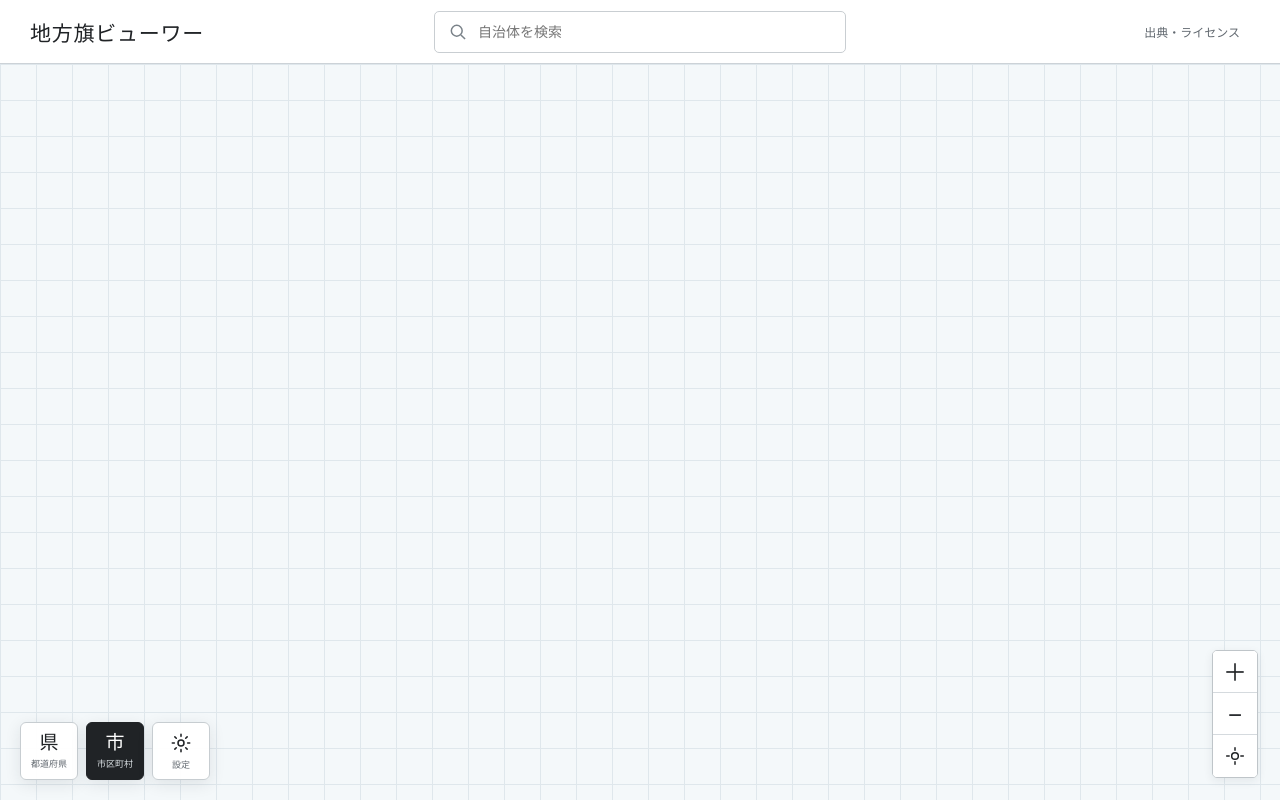
Scenario: App › searches a municipality and opens its details
expect the heading "地方旗ビューワー" is shown: met, box x1=30 y1=18 x2=204 y2=46
In the field labelled "自治体を検索": (640, 32) x1=434 y1=10 x2=846 y2=52, type "13101"
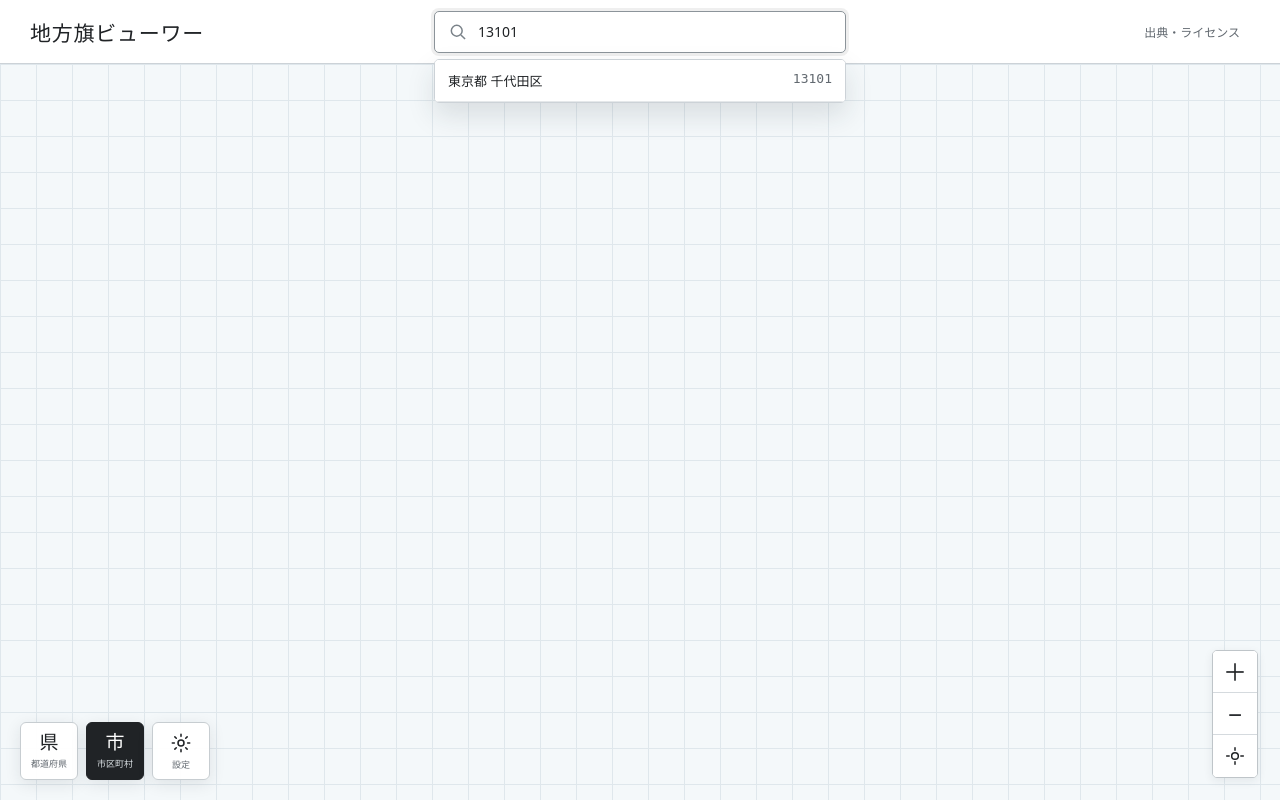
Click the option "東京都 千代田区 13101": click(468, 80) x1=435 y1=60 x2=845 y2=102
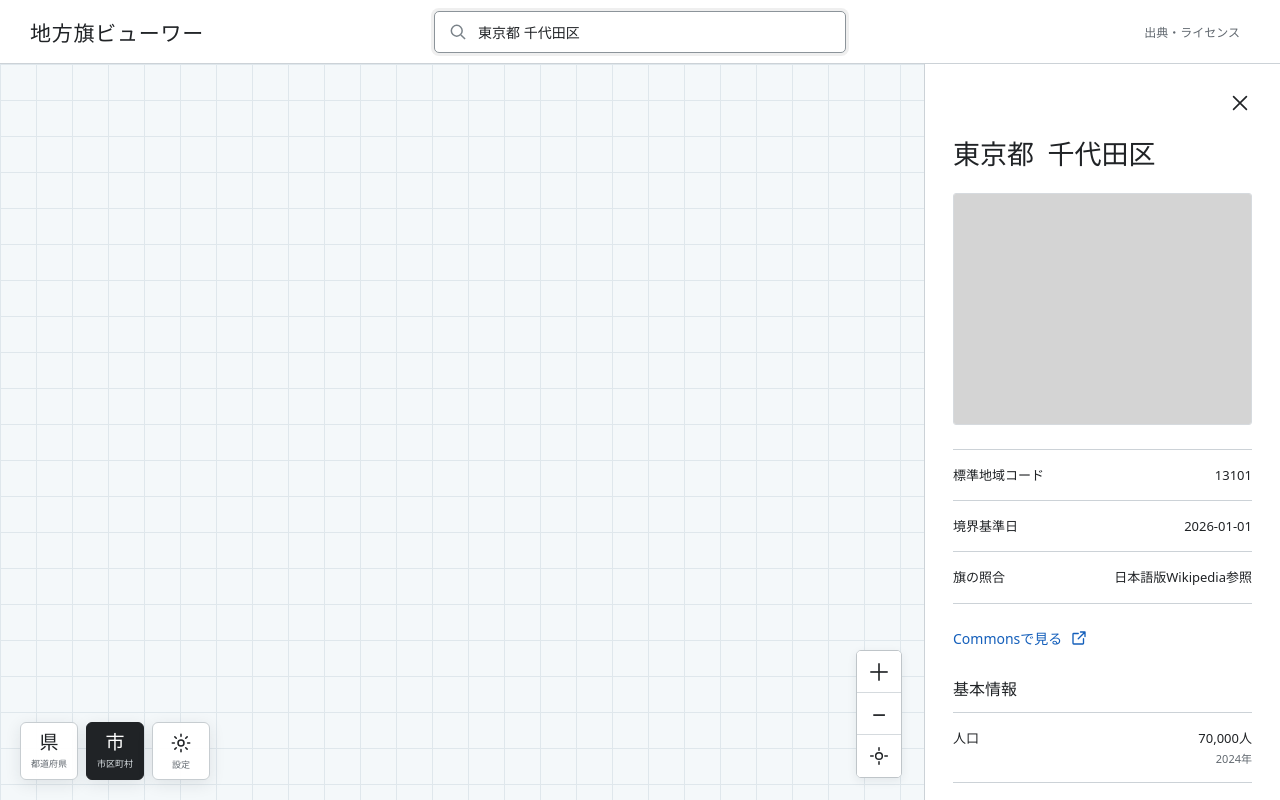
expect the element named "自治体の詳細" is shown: met, box x1=924 y1=64 x2=1279 y2=799
expect the text "70,000人" is shown: met, box x1=1198 y1=728 x2=1252 y2=746
expect the text "標準地域コード" is shown: met, box x1=953 y1=466 x2=1044 y2=484
Click the button named "詳細を閉じる": click(1240, 103) x1=1222 y1=85 x2=1258 y2=121
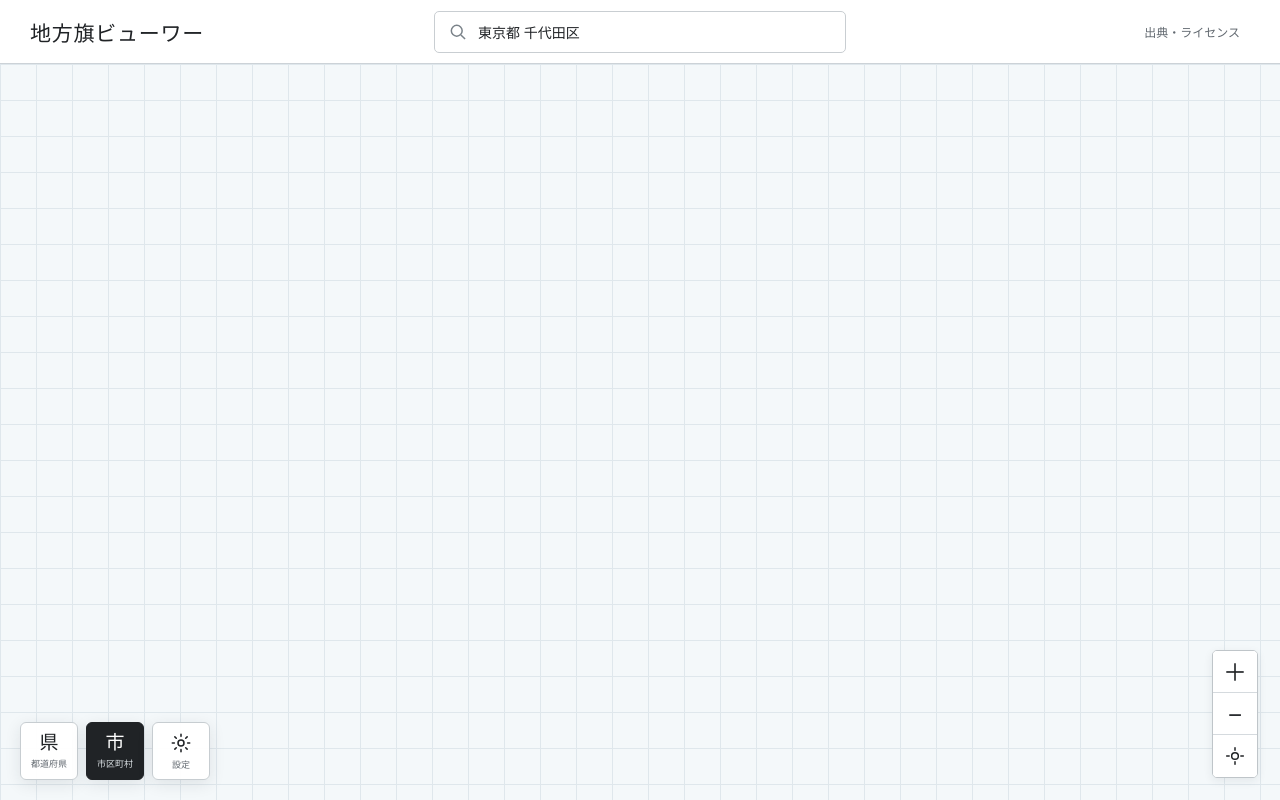
expect the element "自治体の詳細" is gone: met
